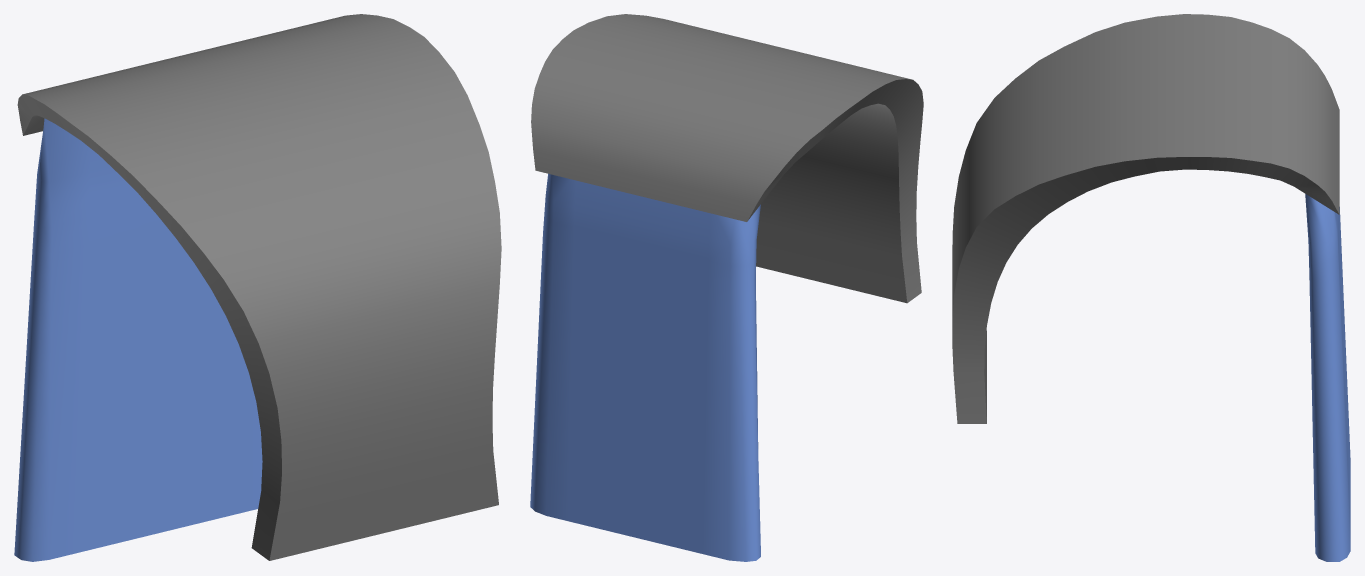
The model's file is Shower Cascade.fbx.
3 renders of one model, left to right at view 1: azimuth 30°, elevation 25°; view 2: azimuth 150°, elevation 25°; view 3: azimuth 270°, elevation 25°, orthographic. The views are drawn at different scales.
Visible parts, largest first — view 1: Shower Casccade, Water Cascade; view 2: Water Cascade, Shower Casccade; view 3: Shower Casccade, Water Cascade.
Boxes of the visible parts, left/top/right/bottom form: Shower Casccade: left=17, top=14, right=501, bottom=560; Water Cascade: left=14, top=118, right=262, bottom=561; Water Cascade: left=530, top=173, right=760, bottom=561; Shower Casccade: left=531, top=14, right=923, bottom=303; Shower Casccade: left=952, top=14, right=1339, bottom=423; Water Cascade: left=1305, top=194, right=1350, bottom=561.
Bounding box in the file's own units: 56.45 × 77.6 × 66.49.
